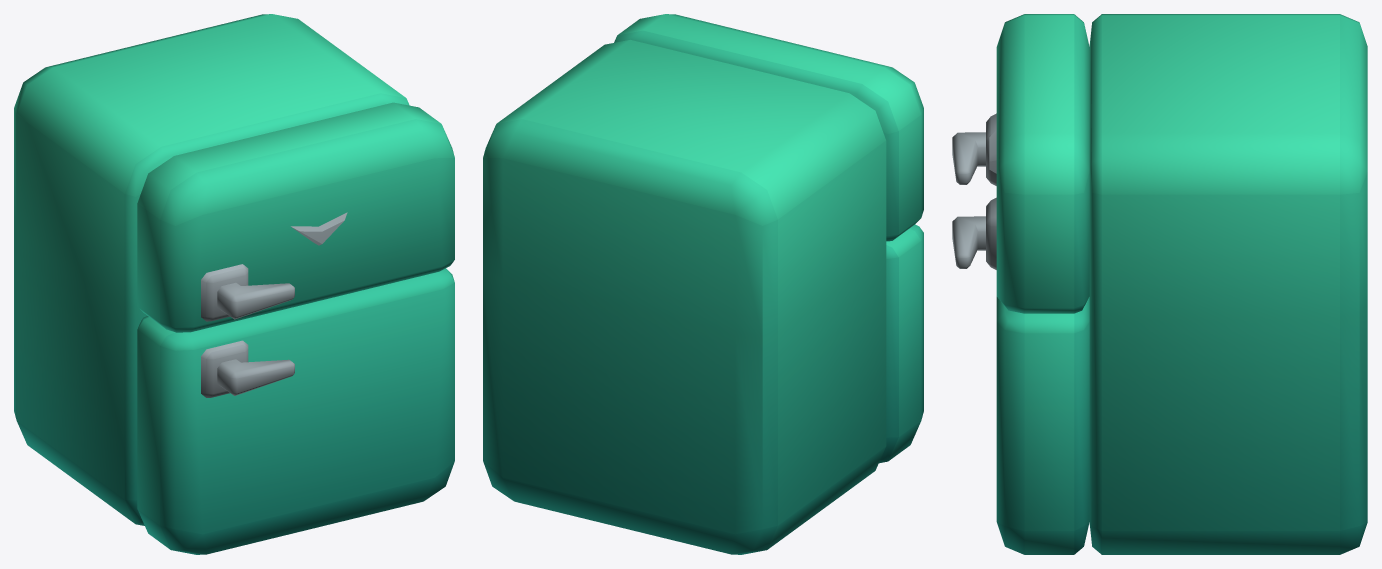
File: cc0-fridge-decorated-lod0.glb
The picture shows the model from 3 angles, left to right: view 1: azimuth 30°, elevation 25°; view 2: azimuth 150°, elevation 25°; view 3: azimuth 270°, elevation 25°; orthographic projection. The views are drawn at different scales.
Parts seen in each view (by area): view 1: part_0; view 2: part_0; view 3: part_0.
Boxes of the visible parts, x1,y1,x2,y2 form: part_0: (14, 14, 454, 554); part_0: (483, 14, 923, 554); part_0: (952, 14, 1367, 554).
Size of the model in its own units: 2 by 2.5 by 2.24.
1 material, 1 textured.
